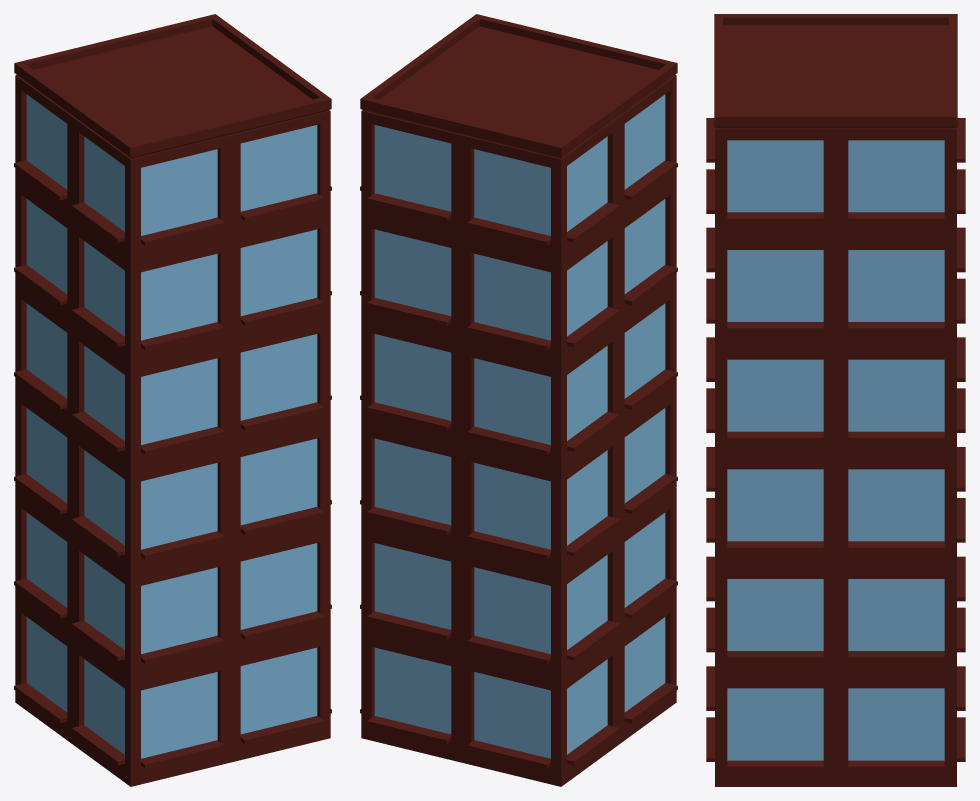
Rendered from placeholder building.fbx.
3 renders of one model, left to right at view 1: azimuth 30°, elevation 25°; view 2: azimuth 150°, elevation 25°; view 3: azimuth 270°, elevation 25°, orthographic. The views are drawn at different scales.
Parts seen in each view (by area): view 1: Plane; view 2: Plane; view 3: Plane.
Boxes of the visible parts, box(x1,y1,x2,y2) form: Plane: box(14, 14, 331, 786); Plane: box(360, 14, 677, 786); Plane: box(706, 14, 965, 786).
Bounding box in the file's own units: 214 × 612 × 214.
